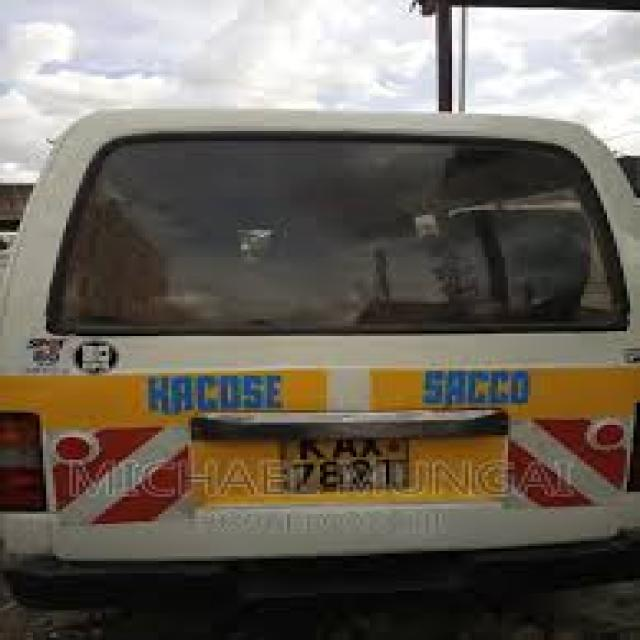matatu: (3, 49, 640, 616)
